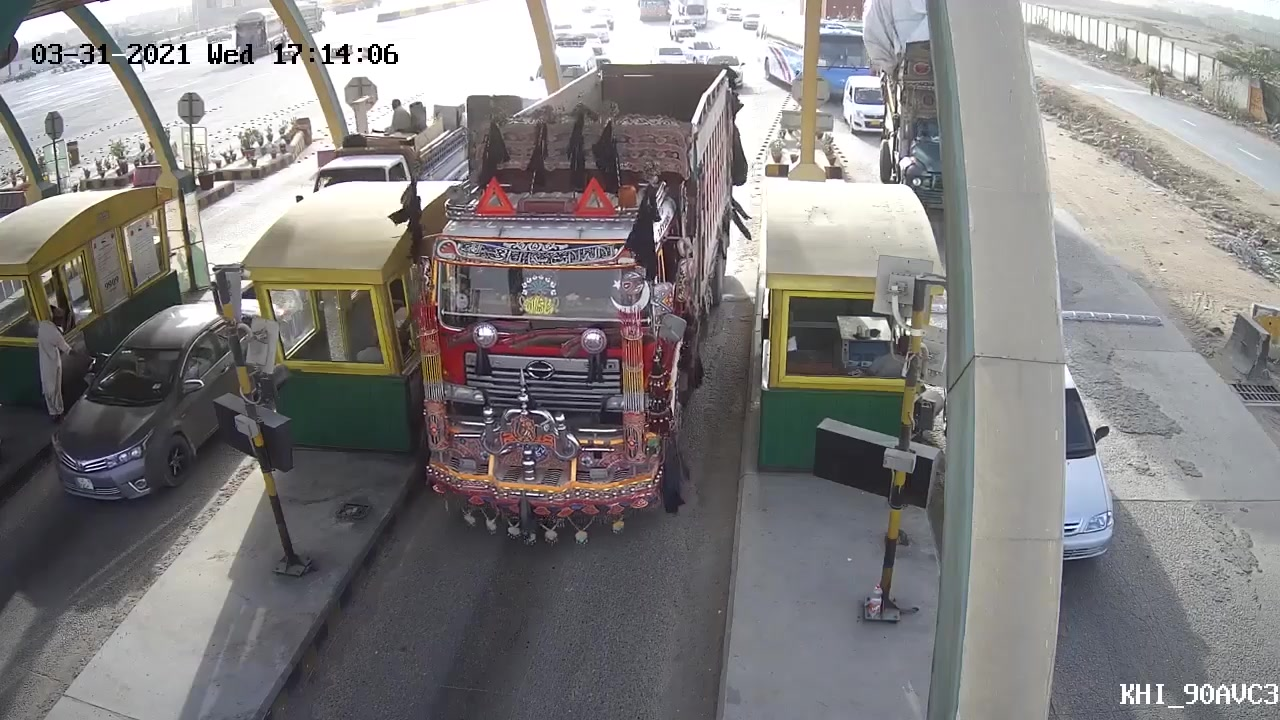F5: (405, 47, 751, 552)
